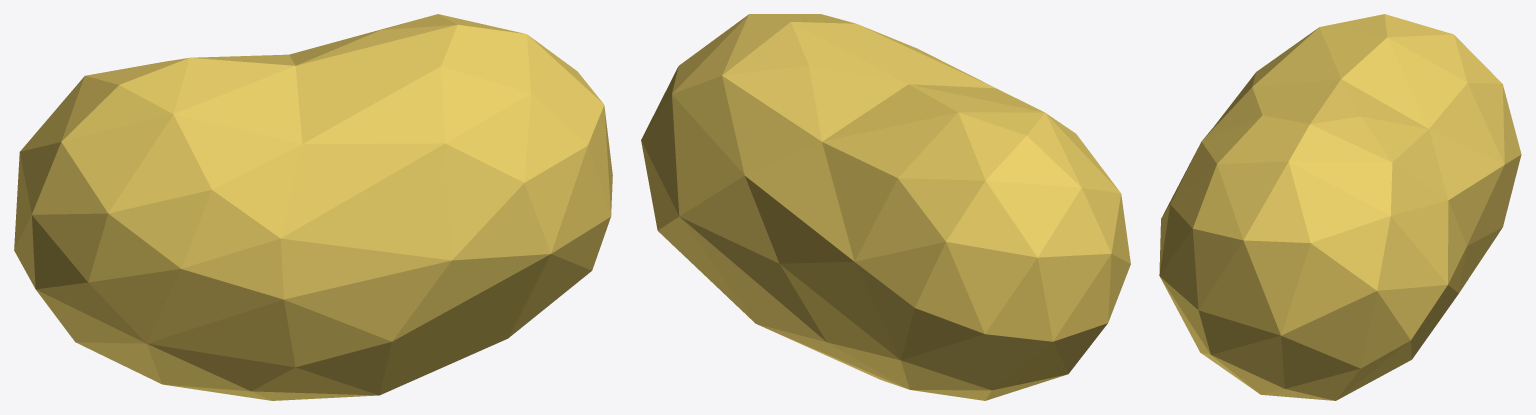
Rendered from potato.fbx.
The picture shows the model from 3 angles, left to right: view 1: azimuth 30°, elevation 25°; view 2: azimuth 150°, elevation 25°; view 3: azimuth 270°, elevation 25°; orthographic projection. The views are drawn at different scales.
Visible parts, largest first — view 1: Potato; view 2: Potato; view 3: Potato.
Boxes of the visible parts, left/top/right/bottom form: Potato: left=14, top=14, right=612, bottom=400; Potato: left=641, top=14, right=1130, bottom=400; Potato: left=1159, top=14, right=1521, bottom=400.
Bounding box in the file's own units: 185 × 111 × 126.
